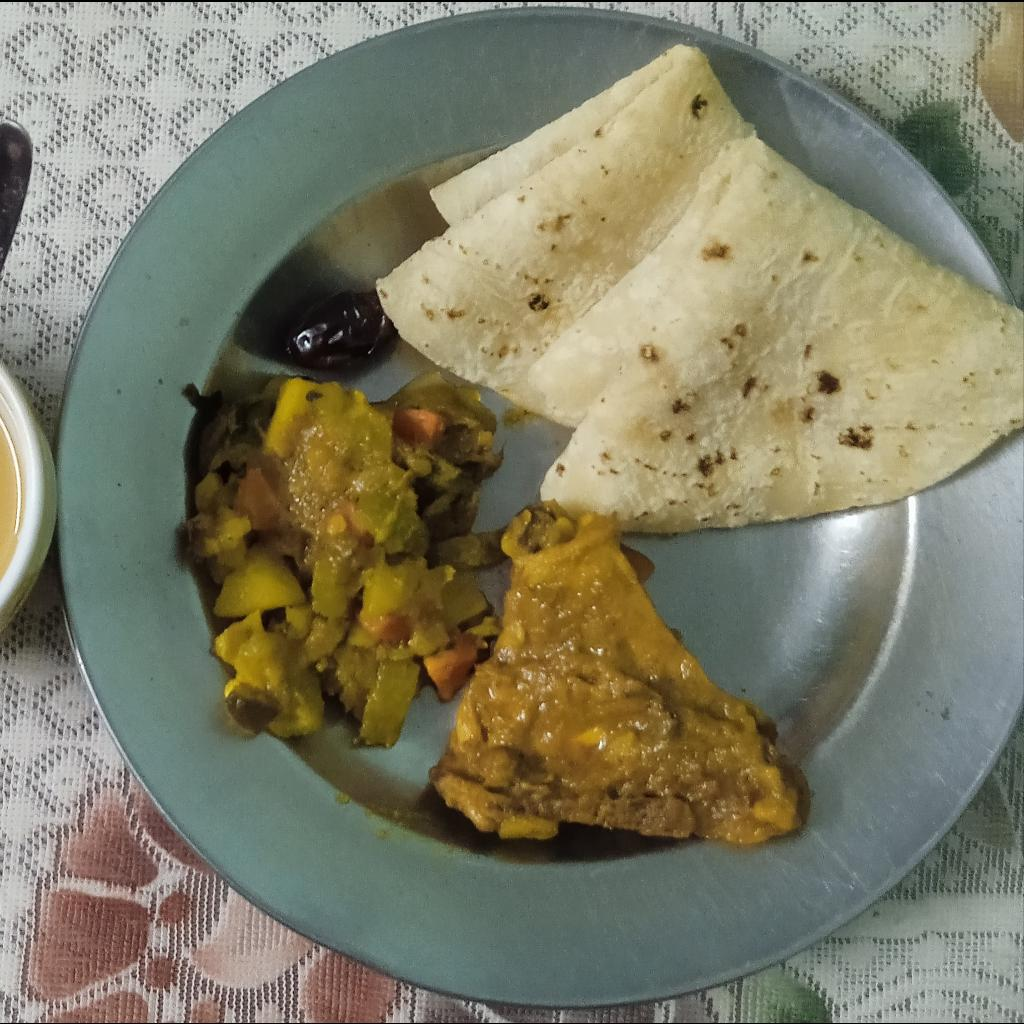chicken: (432, 502, 806, 846)
dates: (288, 285, 399, 372)
ruti: (378, 43, 1022, 533)
vegetable: (186, 372, 507, 746)
